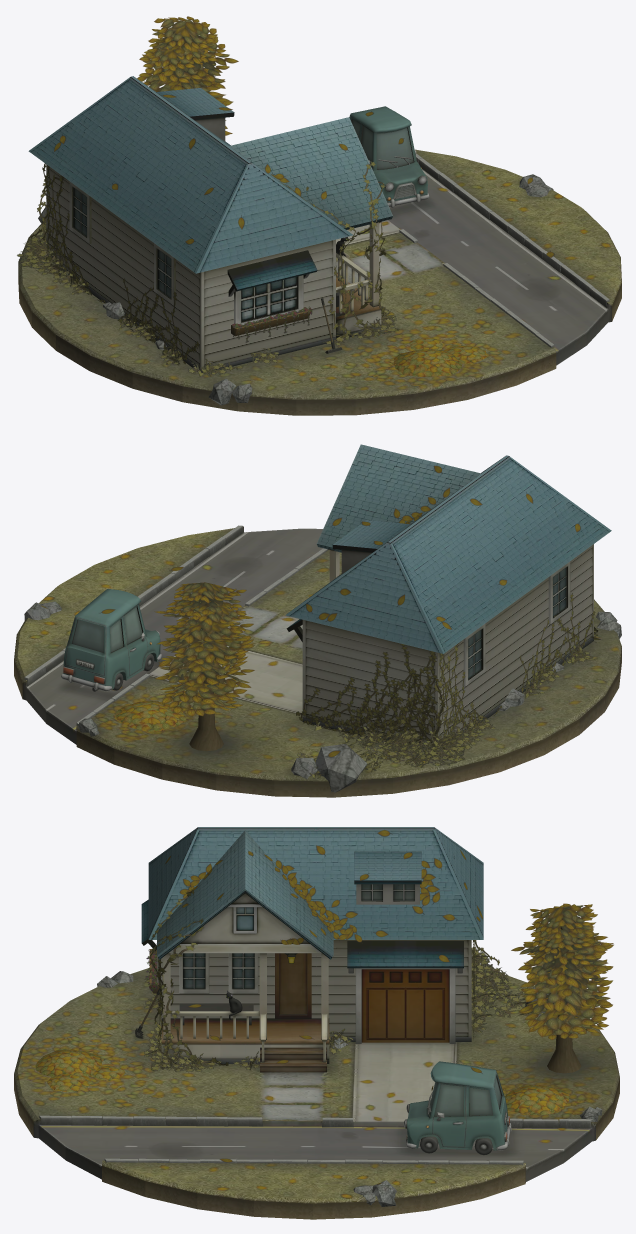
Rendered from autumnhouse.glb.
3 renders of one model, top to bottom at view 1: azimuth 30°, elevation 25°; view 2: azimuth 150°, elevation 25°; view 3: azimuth 270°, elevation 25°, orthographic.
Parts seen in each view (by area): view 1: polySurface637, House_base, polySurface197, polySurface355, initialShadingGrouppolySurface116_polySurface3, House_window_01, polySurface226, polySurface243, House_smallroof_02, House_veranda, House_windows_06, House_windows_05 (+4 smaller); view 2: polySurface637, House_base, polySurface355, polySurface197, initialShadingGrouppolySurface116_polySurface3, polySurface276, polySurface250, House_smallroof_02, House_windows_05, House_windows_06, polySurface470, polySurface480 (+6 smaller); view 3: polySurface637, House_base, polySurface355, polySurface197, Garage_door, initialShadingGrouppolySurface116_polySurface3, House_veranda, polySurface179, House_roof_part_02, House_door, House_smallroof_02, House_stairs (+13 smaller).
Boxes of the visible parts, <box> form: polySurface637: <box>18,149,621,415</box>; House_base: <box>28,76,353,372</box>; polySurface197: <box>229,117,392,229</box>; polySurface355: <box>137,16,238,135</box>; initialShadingGrouppolySurface116_polySurface3: <box>349,106,429,207</box>; House_window_01: <box>234,275,303,324</box>; polySurface226: <box>227,250,317,296</box>; polySurface243: <box>393,349,461,376</box>; House_smallroof_02: <box>156,88,234,120</box>; House_veranda: <box>336,273,381,340</box>; House_windows_06: <box>69,181,91,244</box>; House_windows_05: <box>154,243,175,305</box>; polySurface637: <box>14,526,621,797</box>; House_base: <box>285,455,611,747</box>; polySurface355: <box>154,582,254,751</box>; polySurface197: <box>316,444,480,552</box>; initialShadingGrouppolySurface116_polySurface3: <box>61,589,161,691</box>; polySurface276: <box>315,744,367,792</box>; polySurface250: <box>115,701,186,731</box>; House_smallroof_02: <box>332,520,410,552</box>; House_windows_05: <box>548,561,570,624</box>; House_windows_06: <box>463,623,485,686</box>; polySurface470: <box>418,730,465,766</box>; polySurface480: <box>375,730,424,763</box>; polySurface637: <box>14,968,619,1219</box>; House_base: <box>148,827,483,1041</box>; polySurface355: <box>511,903,613,1073</box>; polySurface197: <box>157,830,333,959</box>; Garage_door: <box>355,968,455,1043</box>; initialShadingGrouppolySurface116_polySurface3: <box>404,1061,511,1155</box>; House_veranda: <box>161,1018,329,1063</box>; polySurface179: <box>347,941,463,973</box>; House_roof_part_02: <box>180,893,309,943</box>; House_door: <box>275,953,311,1018</box>; House_smallroof_02: <box>354,851,421,884</box>; House_stairs: <box>260,1047,326,1072</box>.
Size of the model in its own units: 50.27 by 18.7 by 50.43.
6 materials, 5 textured.
